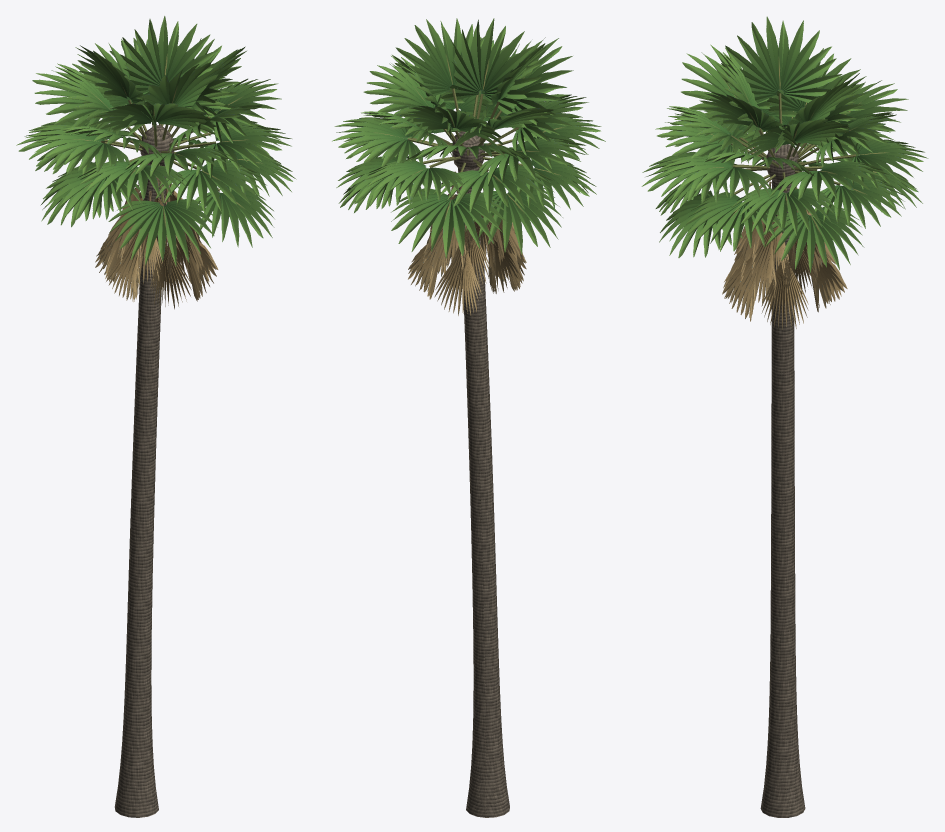
The model's file is fan-palm.glb.
3 views of the same model, side by side, from view 1: azimuth 30°, elevation 25°; view 2: azimuth 150°, elevation 25°; view 3: azimuth 270°, elevation 25° (orthographic).
Visible parts, largest first — view 1: Crown, Trunk; view 2: Crown, Trunk; view 3: Crown, Trunk.
Part boxes in pixels (<box>): Crown: <box>16,16,296,309</box>; Trunk: <box>114,165,166,817</box>; Crown: <box>332,18,605,315</box>; Trunk: <box>458,167,509,817</box>; Crown: <box>641,16,928,329</box>; Trunk: <box>760,180,805,817</box>.
Size of the model in its own units: 4.82 by 14.88 by 5.11.
5 materials, 3 textured.
